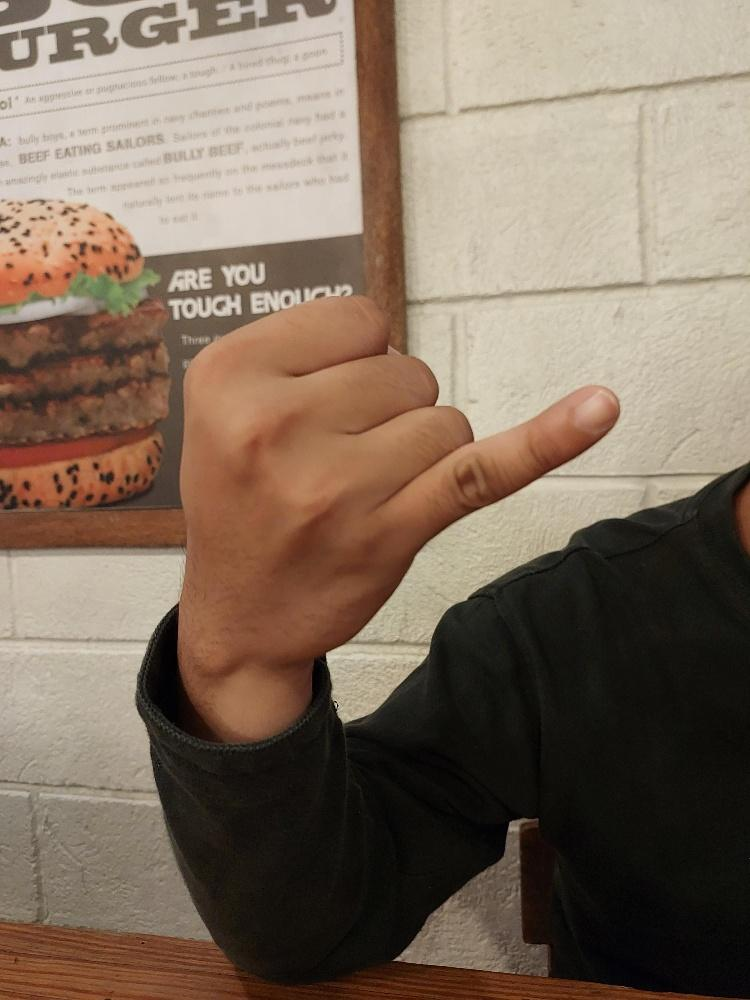j: (172, 290, 620, 666)
